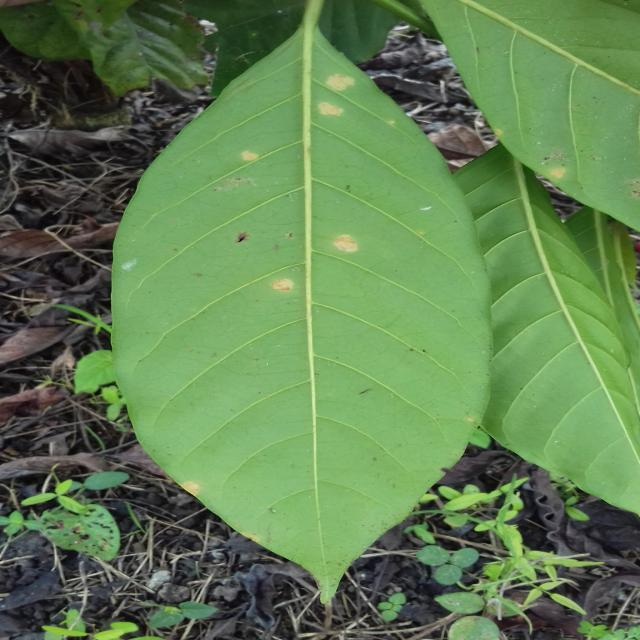Enfermedad-Roya: (110, 6, 492, 609)
